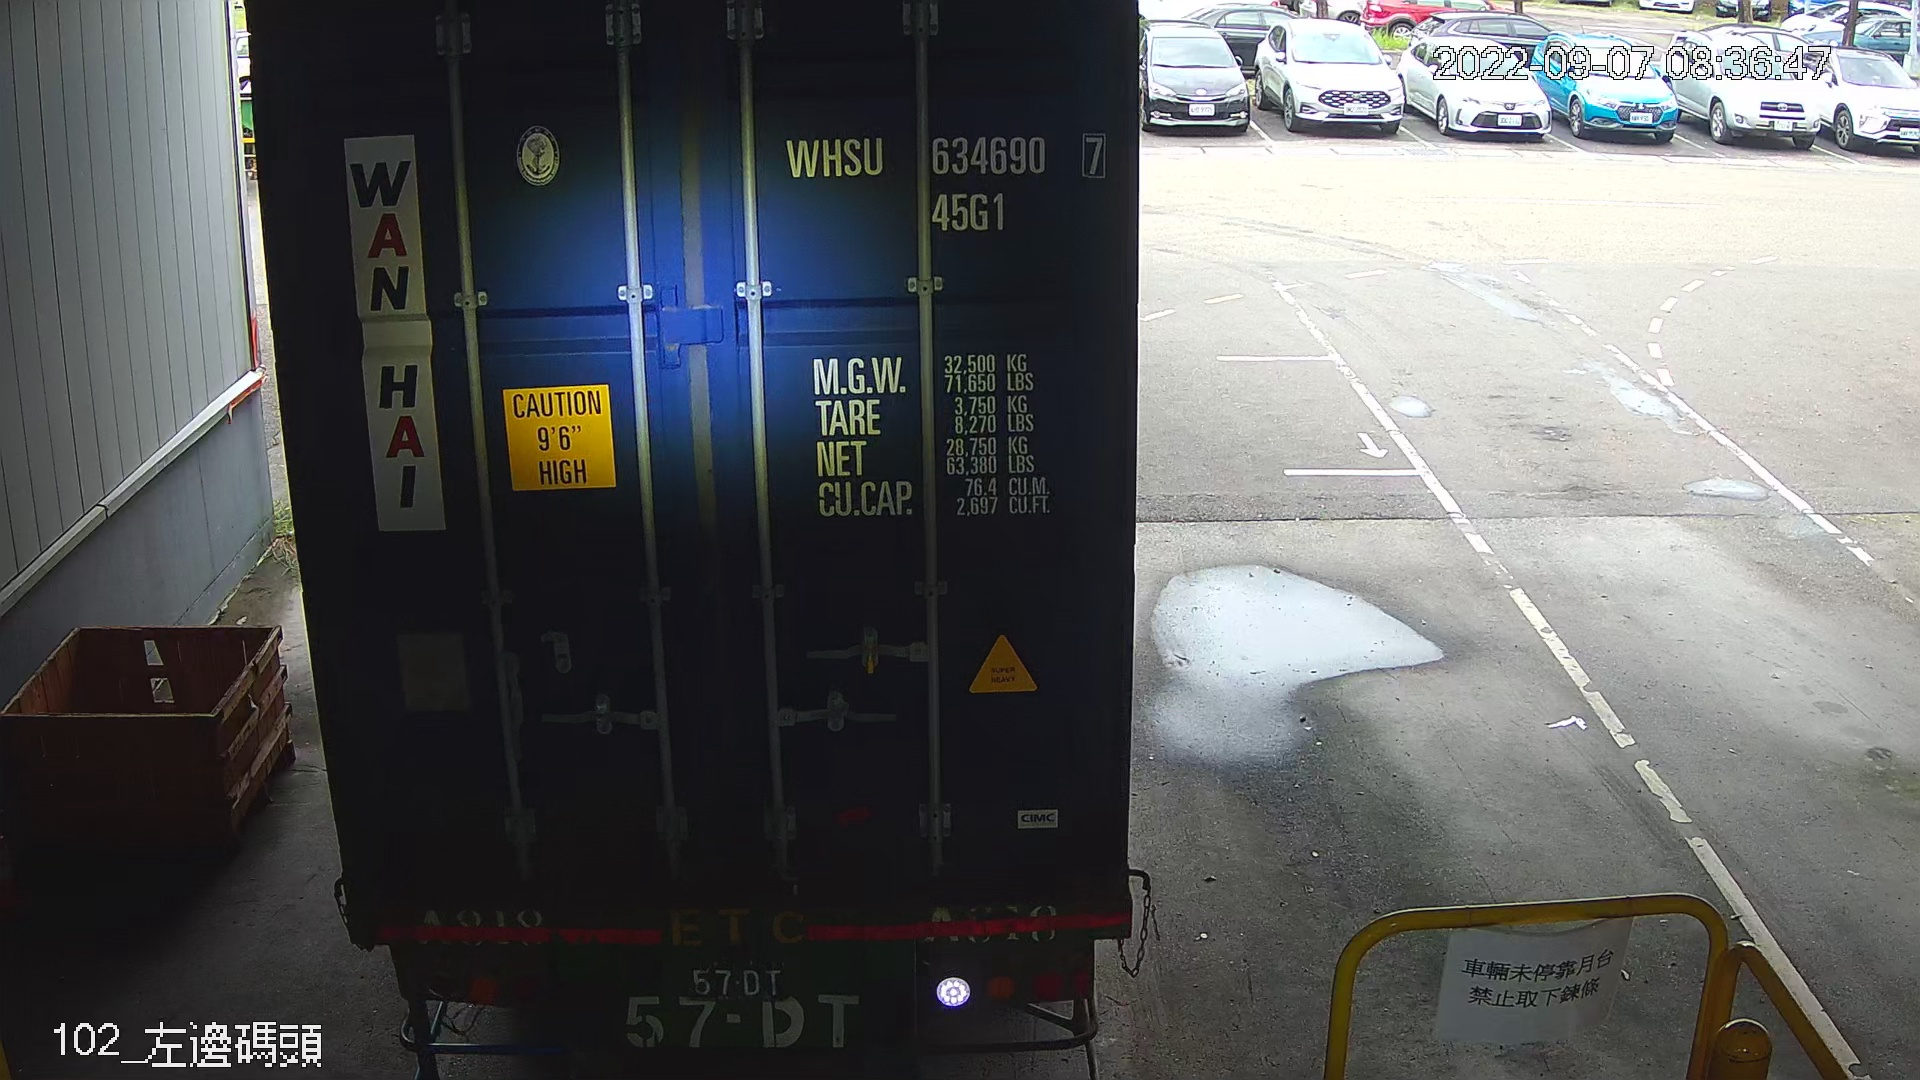container: (775, 123, 1114, 241)
